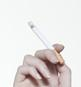smoke: (28, 21, 65, 65)
